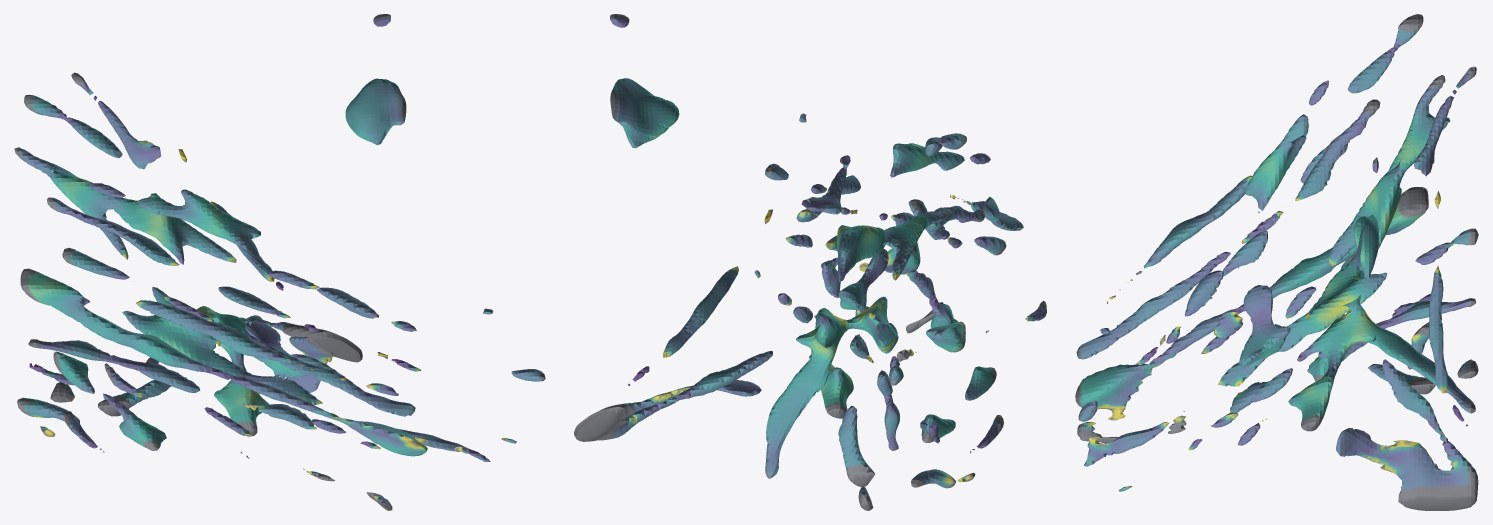
The model's file is hero.glb.
3 views of the same model, side by side, from view 1: azimuth 30°, elevation 25°; view 2: azimuth 150°, elevation 25°; view 3: azimuth 270°, elevation 25° (orthographic). The views are drawn at different scales.
Parts seen in each view (by area): view 1: geometry_0; view 2: geometry_0; view 3: geometry_0.
Boxes of the visible parts, x1,y1,x2,y2 form: geometry_0: (14, 14, 545, 510); geometry_0: (574, 14, 1046, 510); geometry_0: (1075, 14, 1478, 510).
Size of the model in its own units: 791 by 763 by 791.
